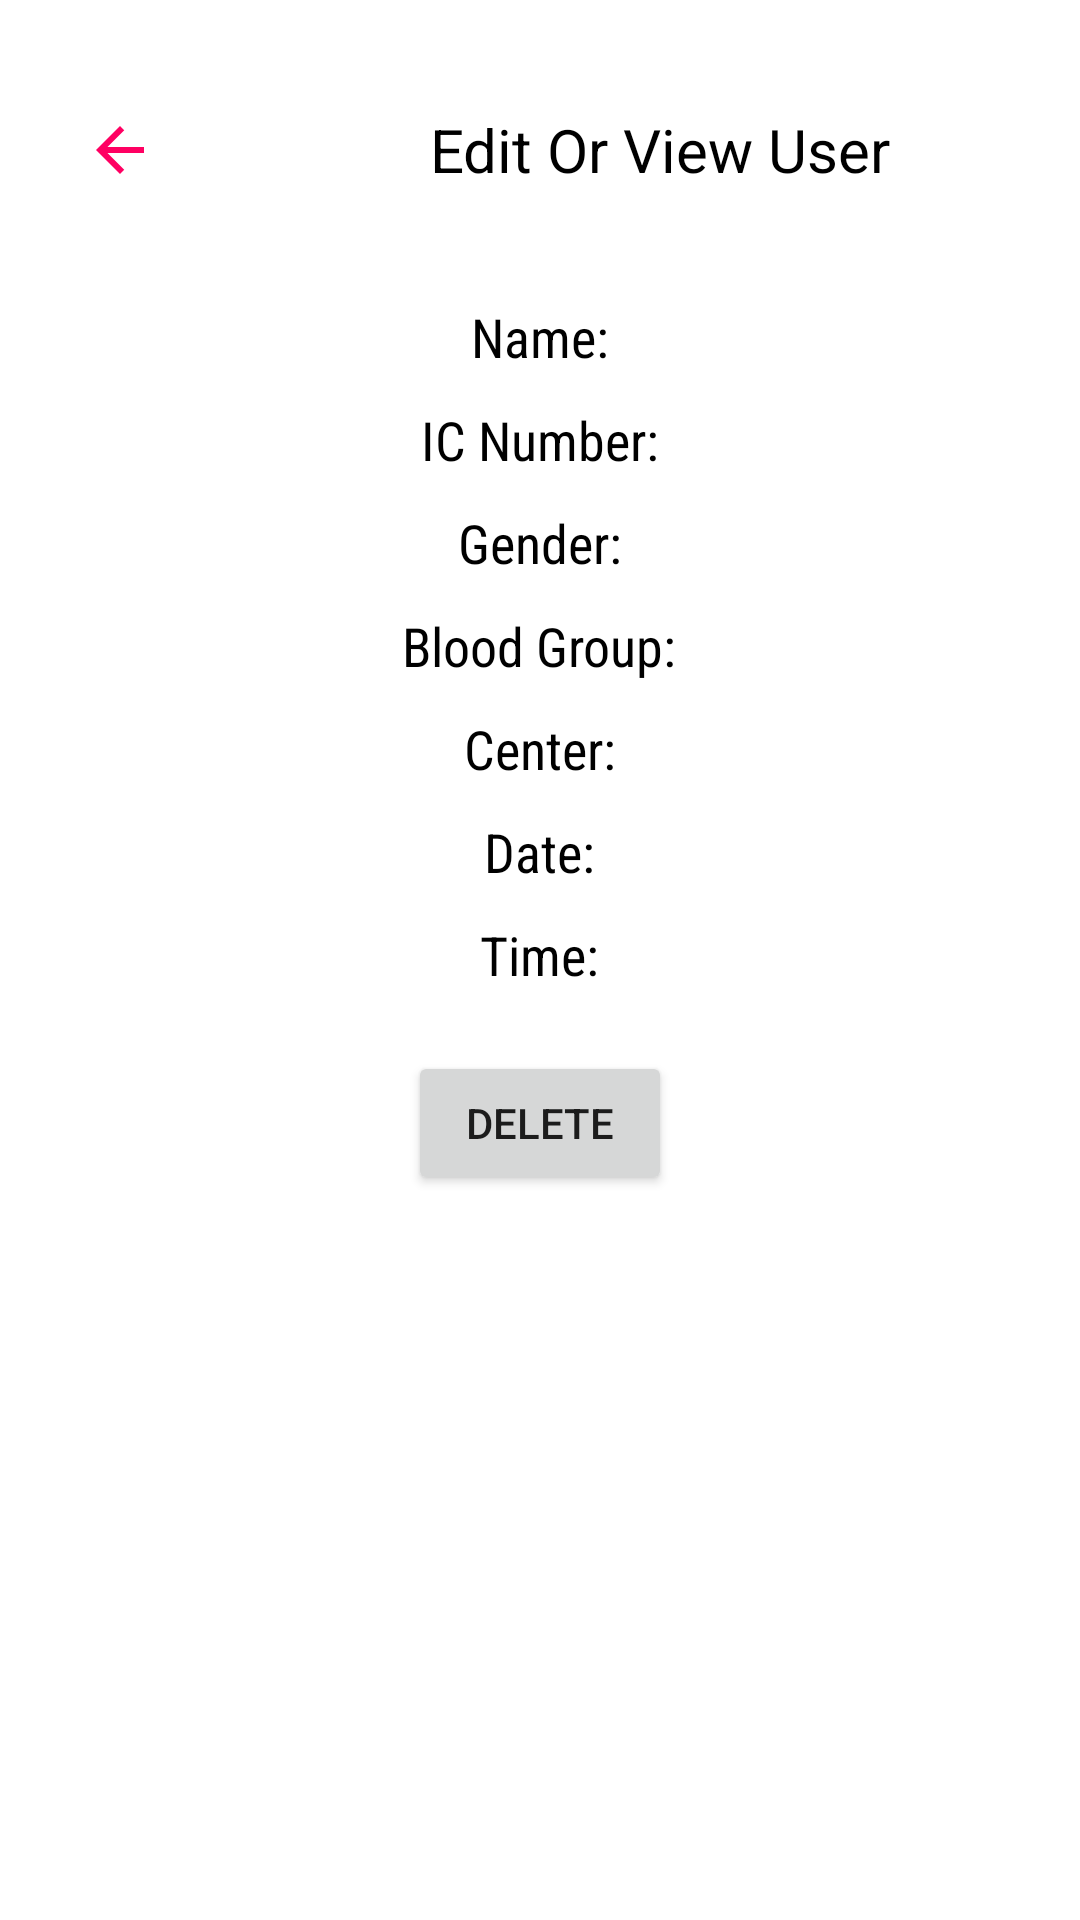

Icons on this 1080*1920 Android screen, each with its box as [left=x1, top=y1, right=x2, bottom=y2]:
backbtn: [left=96, top=126, right=144, bottom=174]
